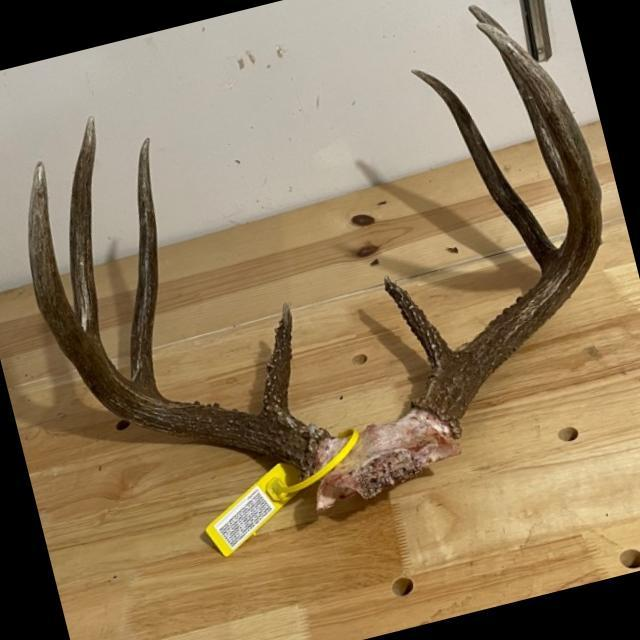L-F: (409, 22, 603, 438)
L-G1: (383, 273, 455, 369)
L-G2: (409, 69, 559, 273)
R-F: (27, 159, 330, 481)
R-G1: (260, 302, 293, 416)
R-G2: (130, 135, 159, 392)
R-G3: (69, 116, 100, 337)
